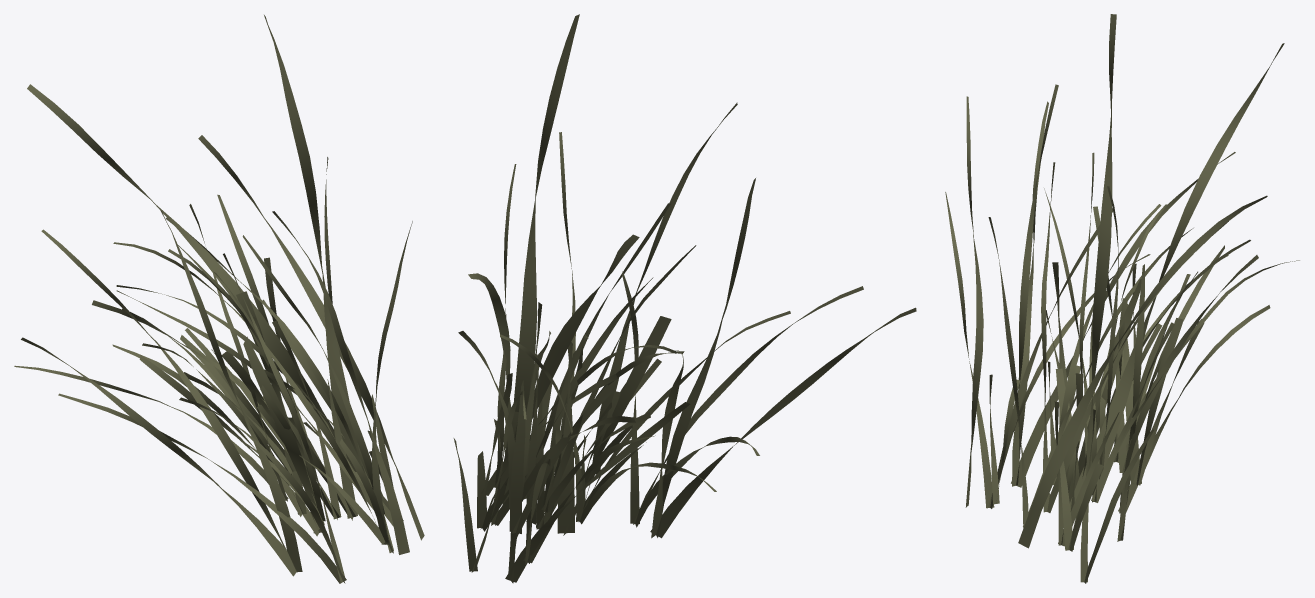
The model's file is GRASS.fbx.
3 renders of one model, left to right at view 1: azimuth 30°, elevation 25°; view 2: azimuth 150°, elevation 25°; view 3: azimuth 270°, elevation 25°, orthographic. The views are drawn at different scales.
Parts seen in each view (by area): view 1: grassClump27Main; view 2: grassClump27Main; view 3: grassClump27Main.
Part boxes in pixels (bbox=[...]): grassClump27Main: bbox=[14, 15, 424, 583]; grassClump27Main: bbox=[453, 14, 916, 583]; grassClump27Main: bbox=[945, 14, 1299, 583].
Size of the model in its own units: 0.8929 by 1.2 by 0.7459.
